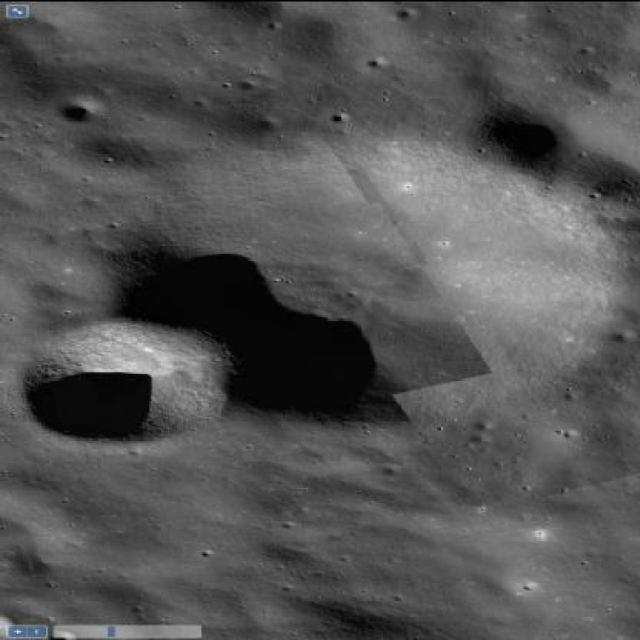crater: (114, 134, 631, 426), (20, 323, 223, 442)
